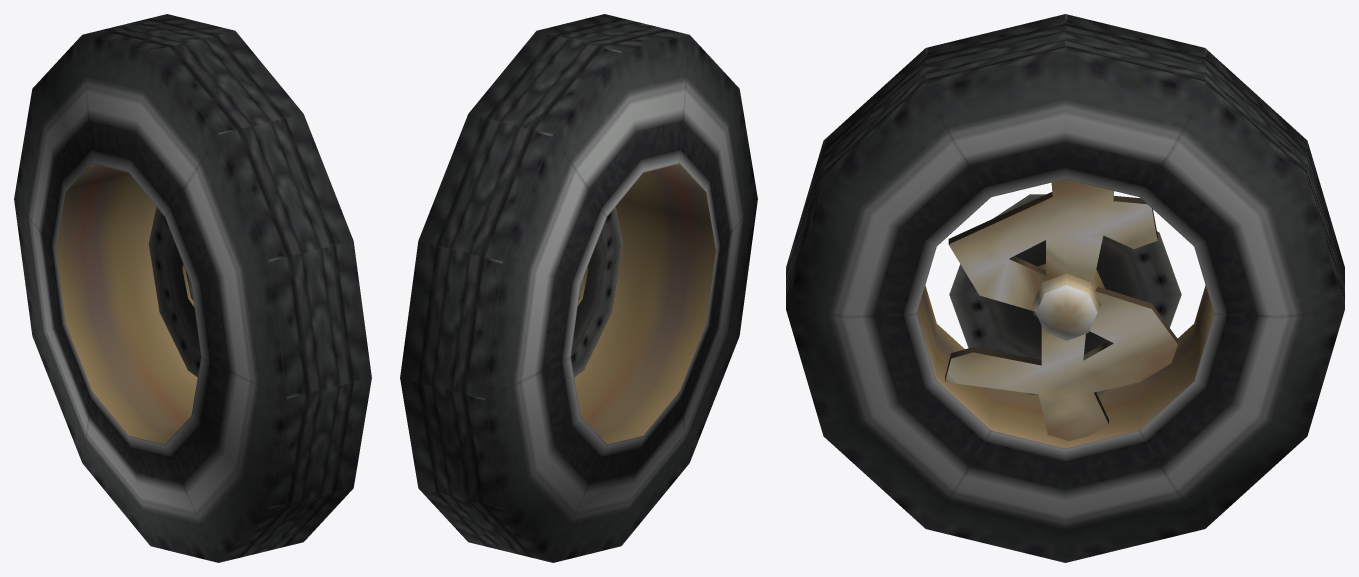
Rendered from wheel_lr2.glb.
3 renders of one model, left to right at view 1: azimuth 30°, elevation 25°; view 2: azimuth 150°, elevation 25°; view 3: azimuth 270°, elevation 25°, orthographic. The views are drawn at different scales.
Parts seen in each view (by area): view 1: wheel_lr2; view 2: wheel_lr2; view 3: wheel_lr2.
Part boxes in pixels (box(x1,y1,x2,y2)): wheel_lr2: box(14, 14, 371, 562); wheel_lr2: box(400, 14, 757, 562); wheel_lr2: box(786, 14, 1344, 562).
Bounding box in the file's own units: 0.2713 × 0.9843 × 0.9843.
Materials: 2 (2 with a texture image).
